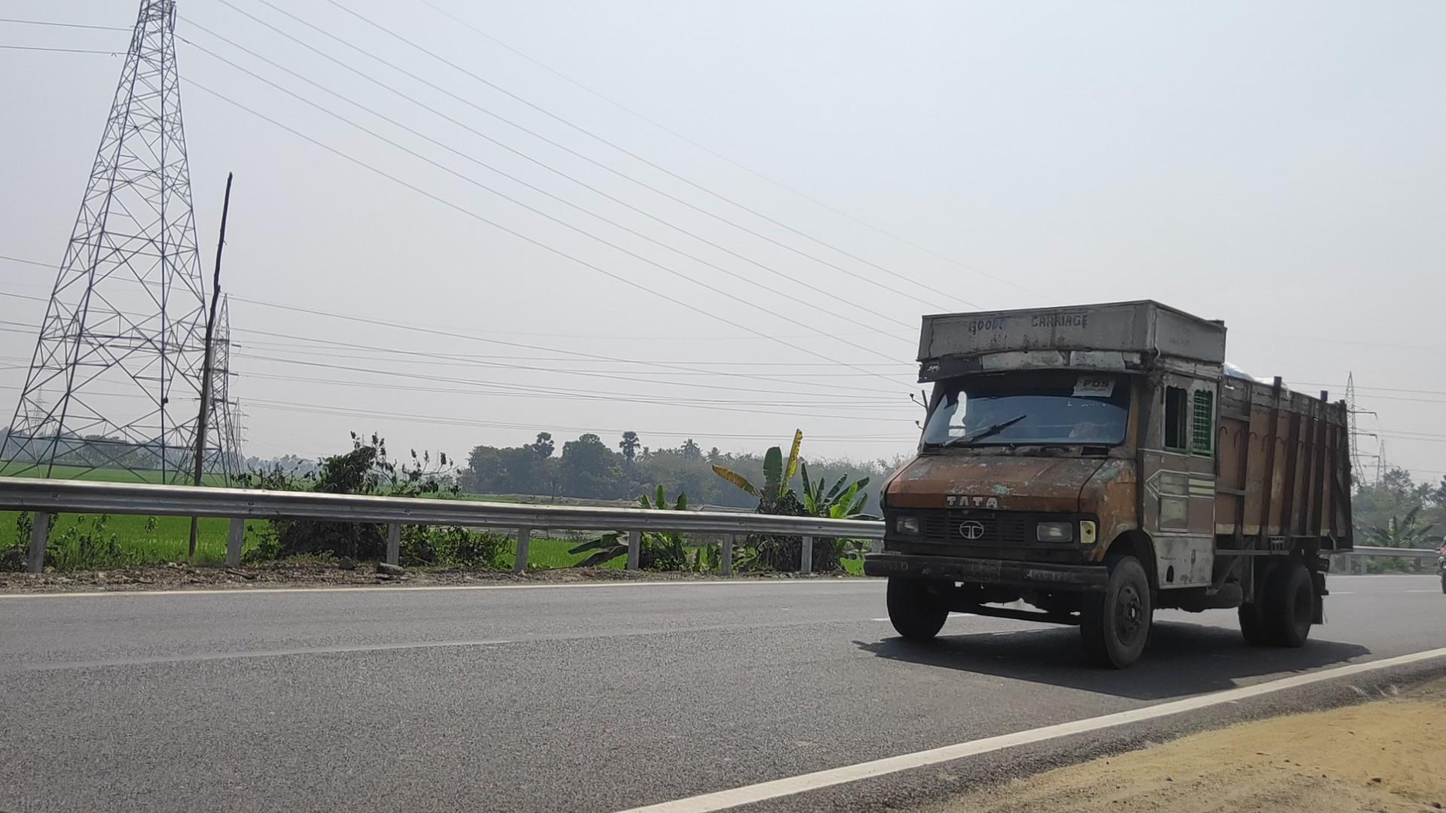truck: (865, 298, 1354, 668)
